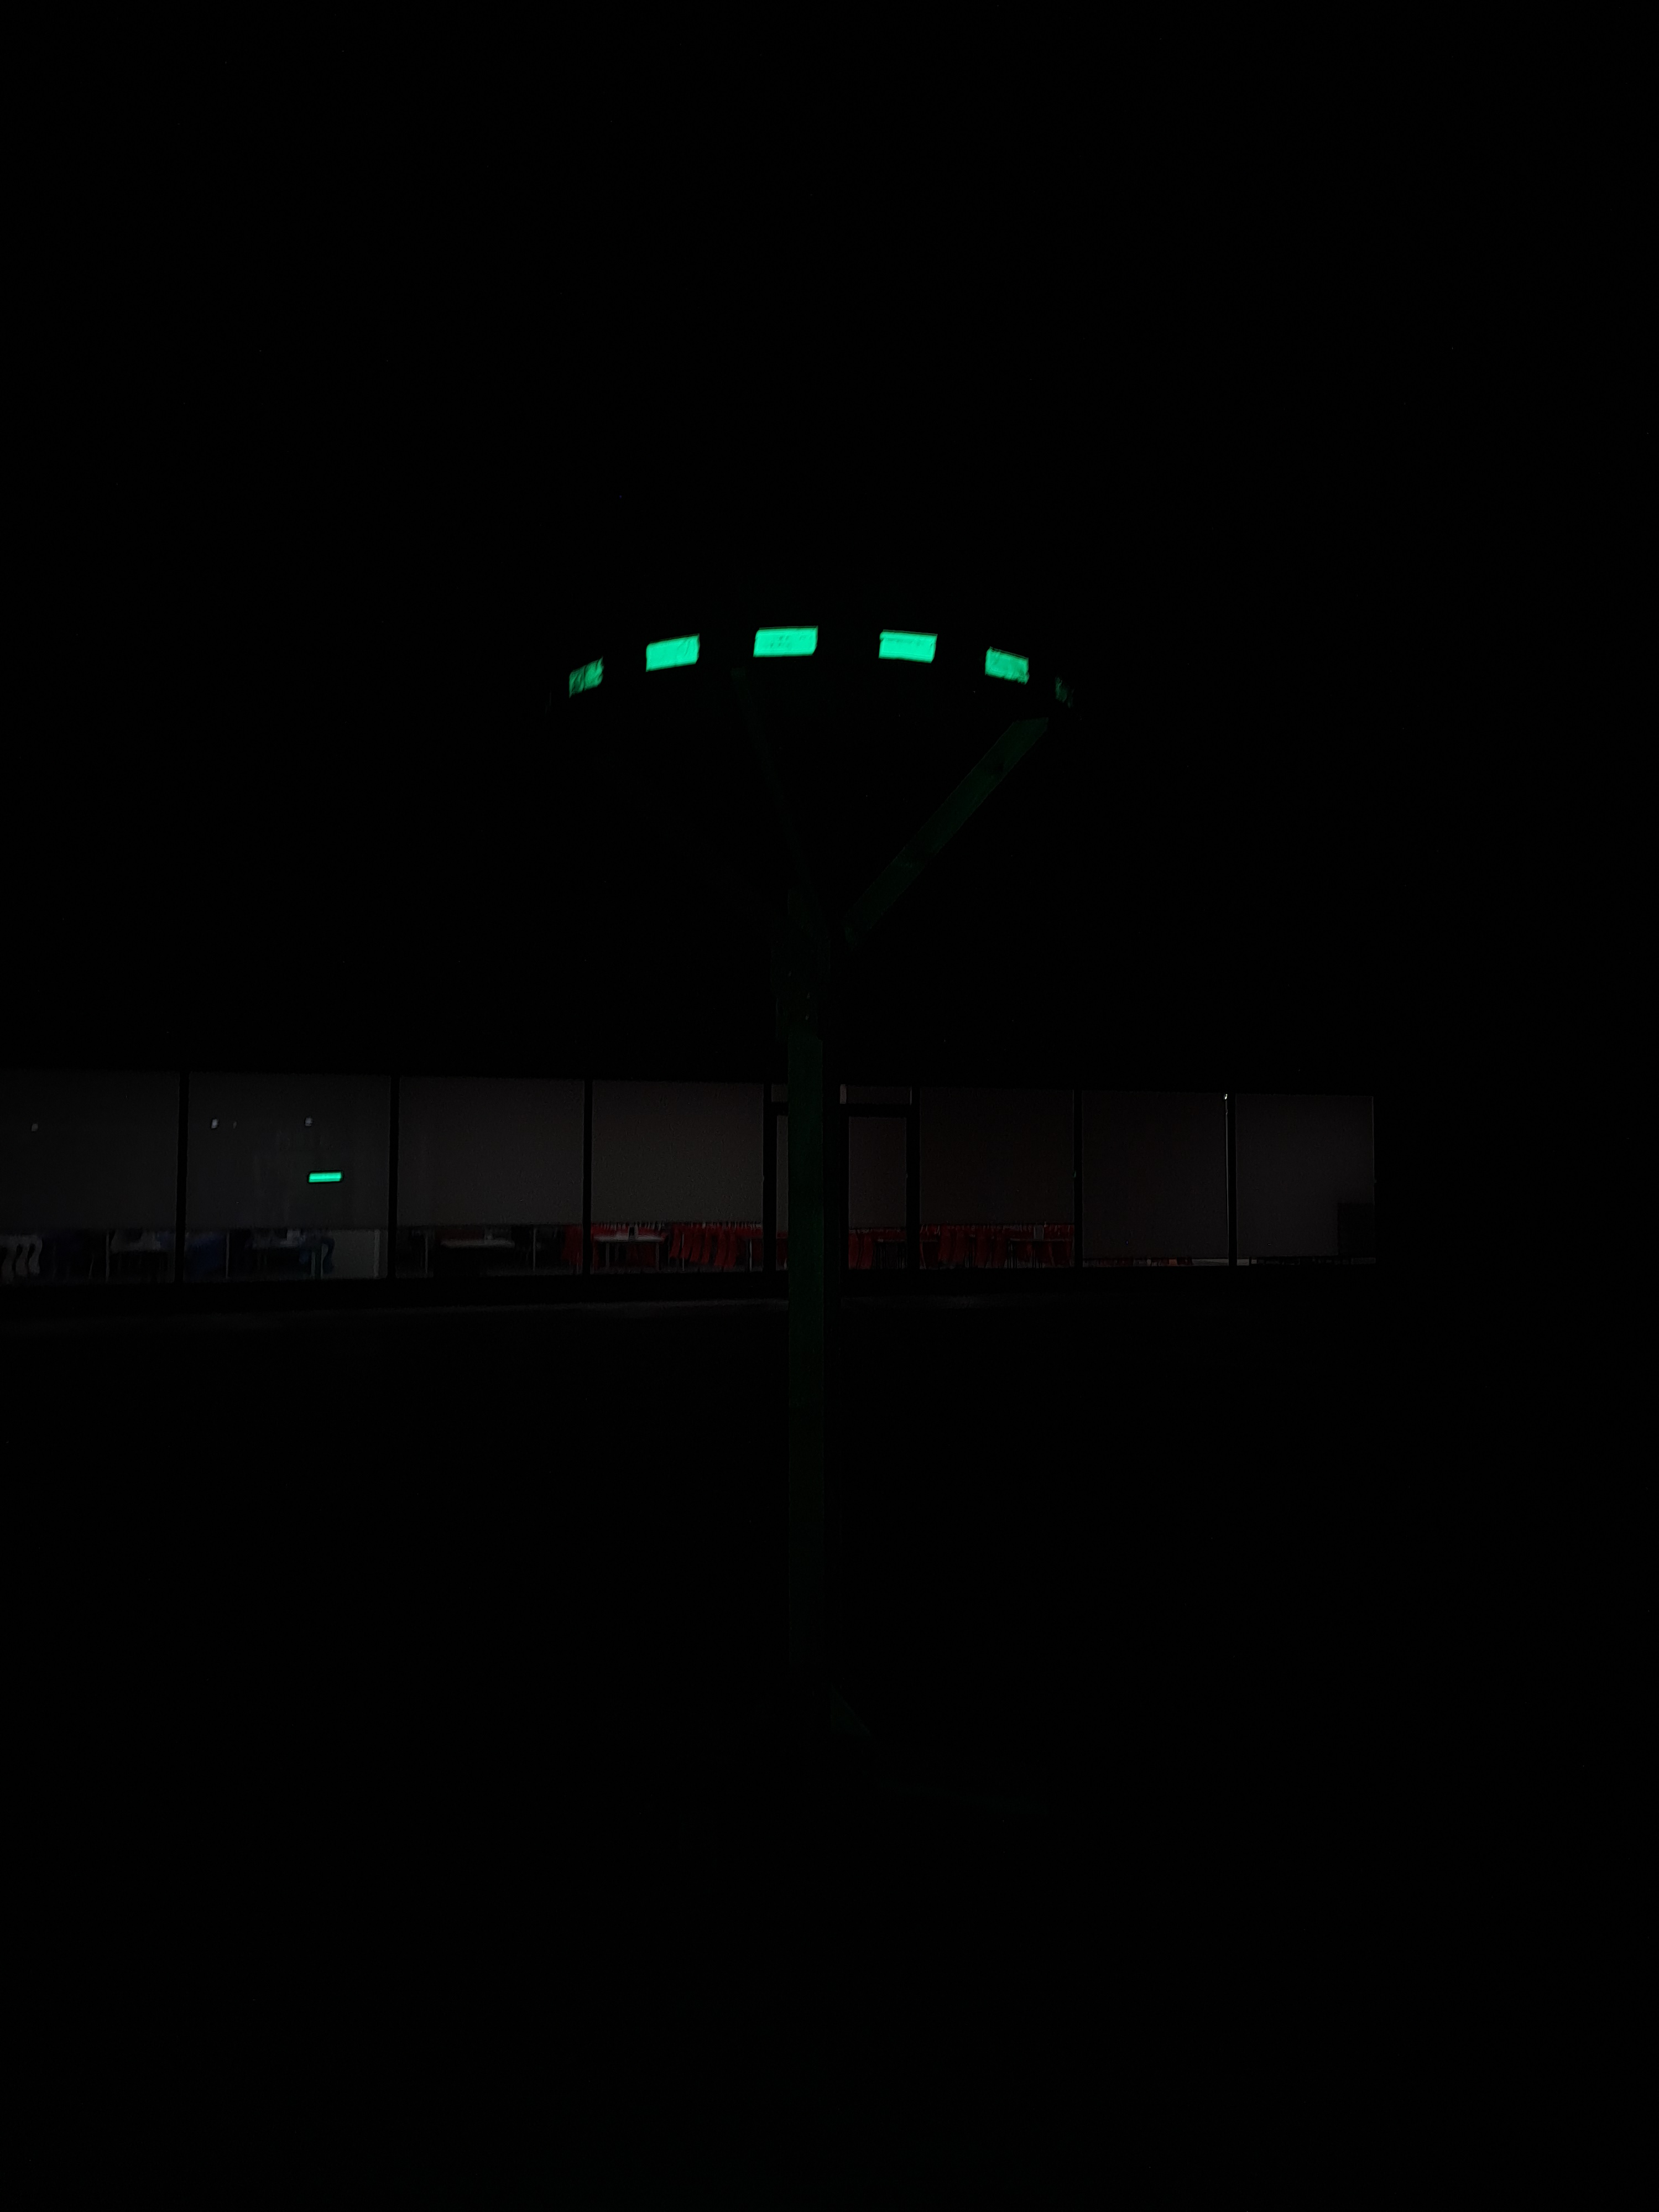hoop: (559, 624, 1037, 698)
